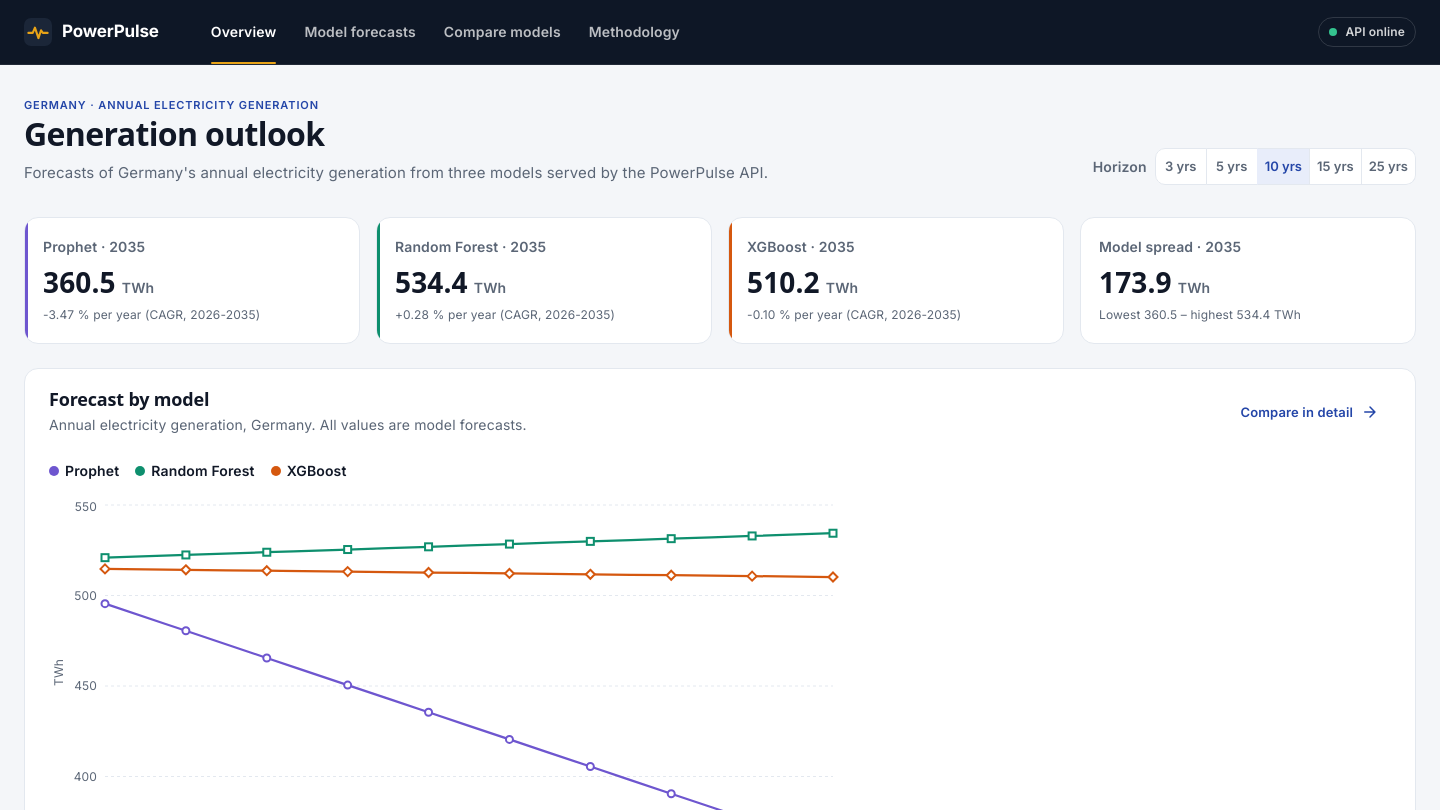
it: application › navigates between pages with an active state
Step 1. Click the link "Methodology" → {"x": 634, "y": 31}, box [589,23,680,40]
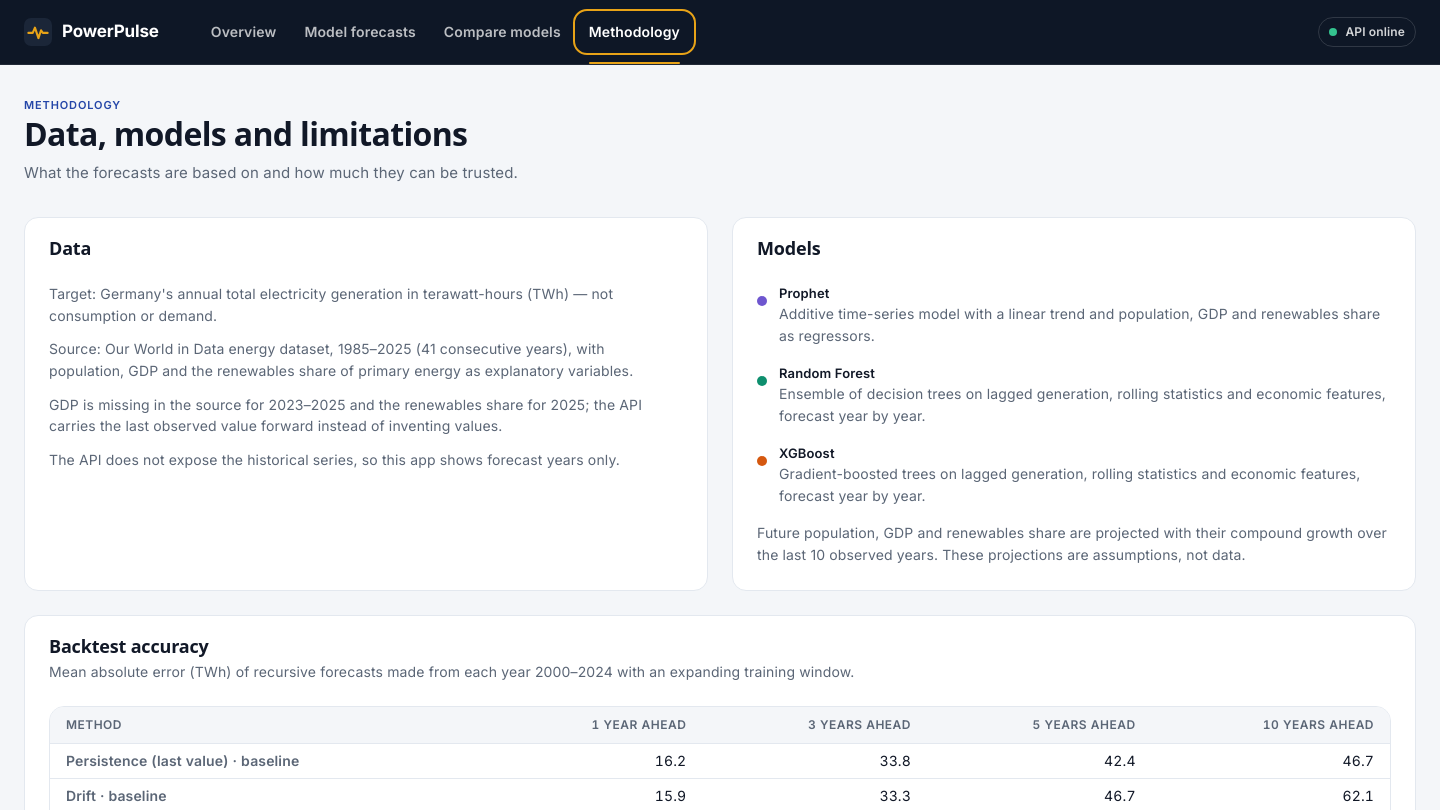
Expected: the heading "Data, models and limitations" is shown, [24,115,518,153]
